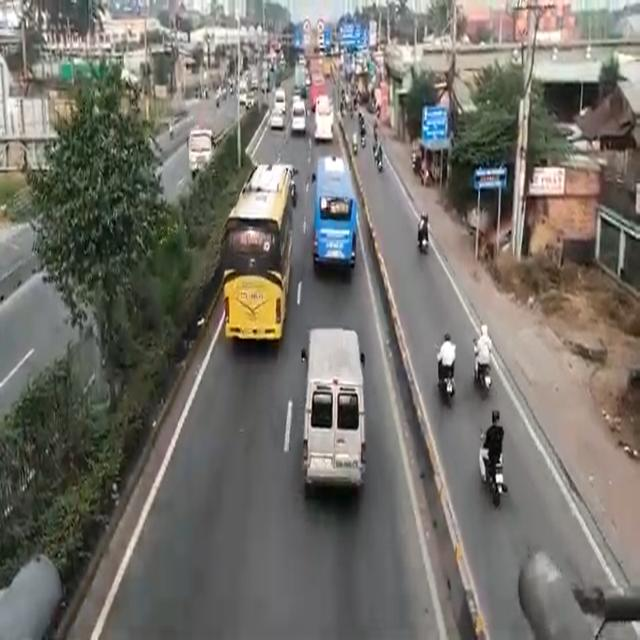bus: (225, 164, 296, 360), (314, 156, 354, 280), (311, 92, 336, 146)
car: (305, 323, 365, 490), (272, 98, 282, 138), (294, 102, 305, 134)
motor: (479, 434, 506, 504), (435, 354, 454, 411), (470, 338, 490, 392)
truck: (186, 129, 218, 175)
